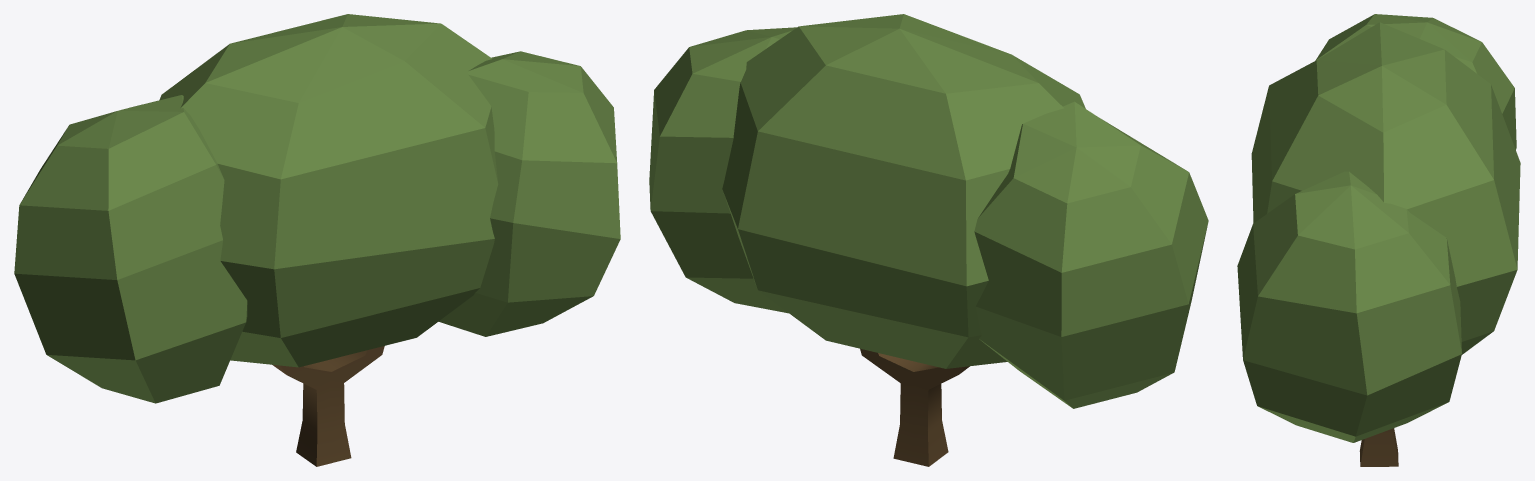
Rendered from Tree.fbx.
3 renders of one model, left to right at view 1: azimuth 30°, elevation 25°; view 2: azimuth 150°, elevation 25°; view 3: azimuth 270°, elevation 25°, orthographic. The views are drawn at different scales.
Parts seen in each view (by area): view 1: pSphere1, pSphere3, pSphere2, pCube7; view 2: pSphere1, pSphere3, pSphere2, pCube7; view 3: pSphere2, pSphere1, pSphere3, pCube7.
Part boxes in pixels (x1,y1,x2,y2): pSphere1: (159, 14, 498, 367); pSphere3: (14, 95, 247, 403); pSphere2: (438, 51, 620, 336); pCube7: (272, 346, 384, 466); pSphere1: (722, 14, 1085, 368); pSphere3: (974, 101, 1208, 408); pSphere2: (649, 27, 796, 313); pCube7: (860, 348, 969, 466); pSphere2: (1237, 171, 1461, 442); pSphere1: (1251, 22, 1520, 354); pSphere3: (1315, 14, 1516, 149); pCube7: (1359, 428, 1398, 466).
Bounding box in the file's own units: 6.23 × 4.43 × 2.83.
